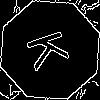K: (25, 25, 80, 72)
